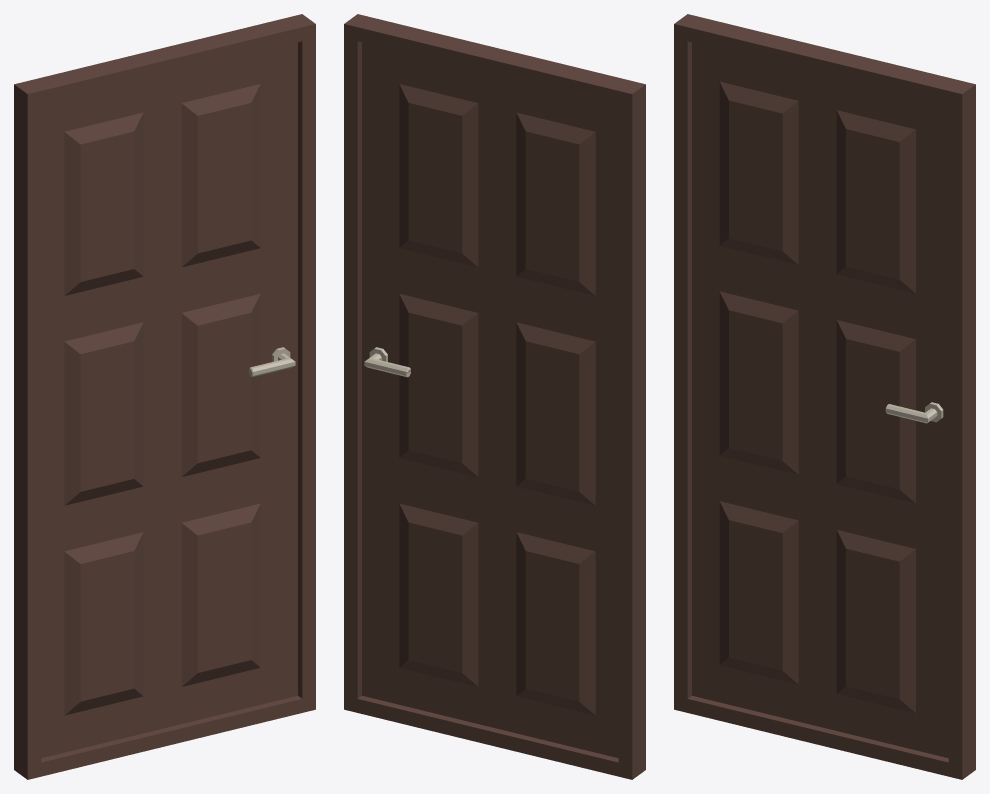
The model's file is Mesh_Door_A07.fbx.
3 views of the same model, side by side, from view 1: azimuth 30°, elevation 25°; view 2: azimuth 150°, elevation 25°; view 3: azimuth 330°, elevation 25° (orthographic).
Visible parts, largest first — view 1: Mesh_Door_A07; view 2: Mesh_Door_A07; view 3: Mesh_Door_A07.
Boxes of the visible parts, x1=… form: Mesh_Door_A07: x1=14, y1=14, x2=315, y2=779; Mesh_Door_A07: x1=344, y1=14, x2=645, y2=779; Mesh_Door_A07: x1=674, y1=14, x2=975, y2=779.
Bounding box in the file's own units: 0.9 × 2.05 × 0.1494.
